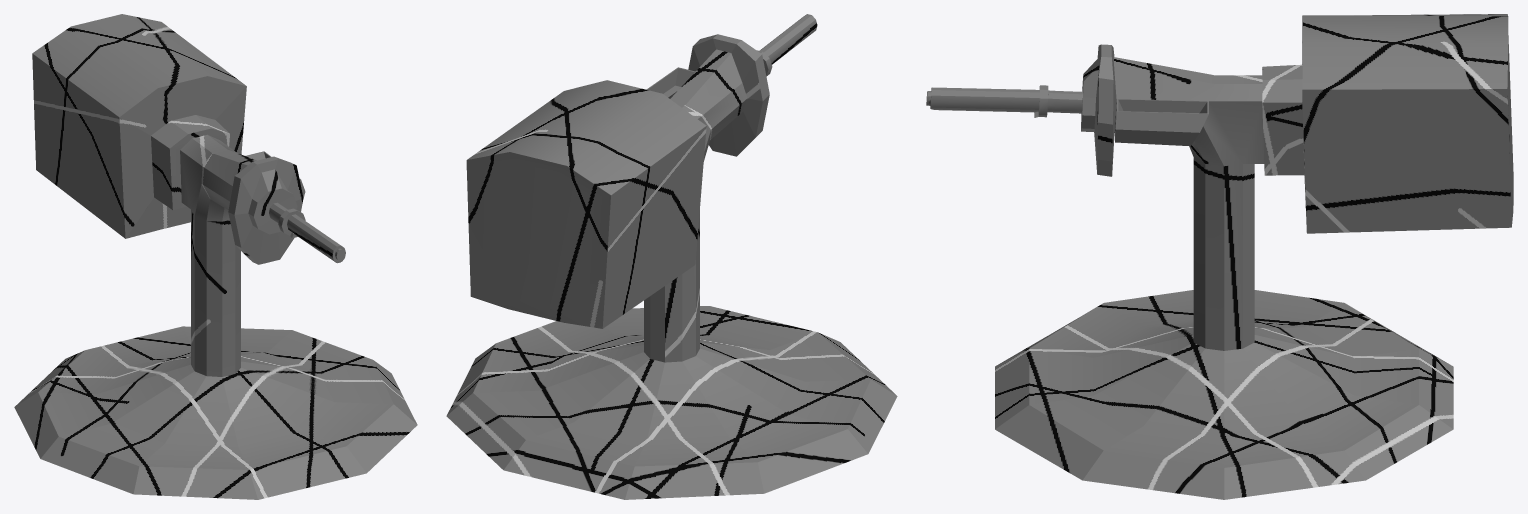
File: turret.fbx
The picture shows the model from 3 angles, left to right: view 1: azimuth 30°, elevation 25°; view 2: azimuth 150°, elevation 25°; view 3: azimuth 270°, elevation 25°; orthographic projection. The views are drawn at different scales.
Visible parts, largest first — view 1: Turret_Forward:Turret; view 2: Turret_Forward:Turret; view 3: Turret_Forward:Turret.
Boxes of the visible parts, box(x1,y1,x2,y2) form: Turret_Forward:Turret: box(14, 14, 417, 499); Turret_Forward:Turret: box(446, 14, 897, 499); Turret_Forward:Turret: box(926, 14, 1513, 499).
Bounding box in the file's own units: 2 × 1.69 × 2.43.
Materials: 1 (1 with a texture image).
